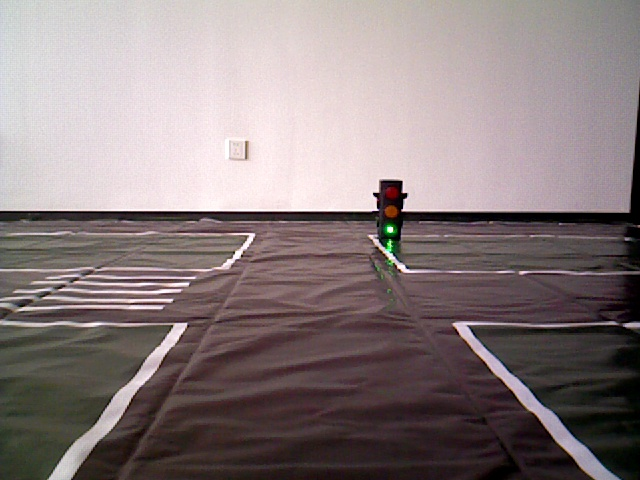green: (376, 181, 403, 236)
